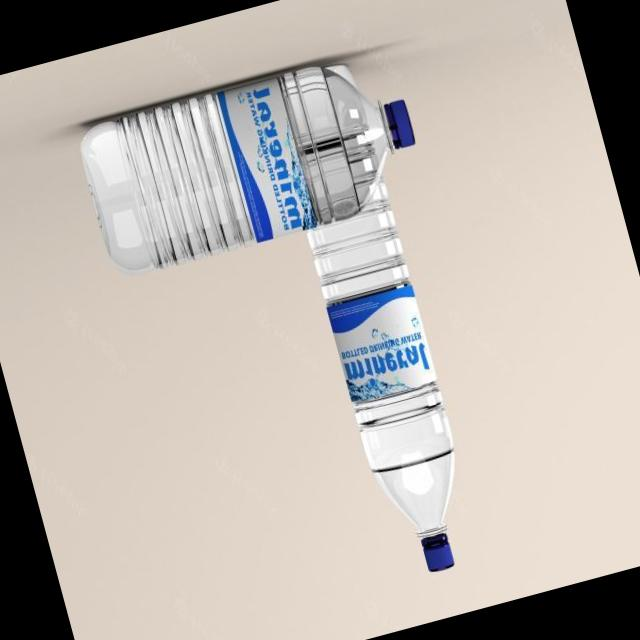plastic_bottle: (72, 42, 430, 281), (296, 174, 486, 582)
